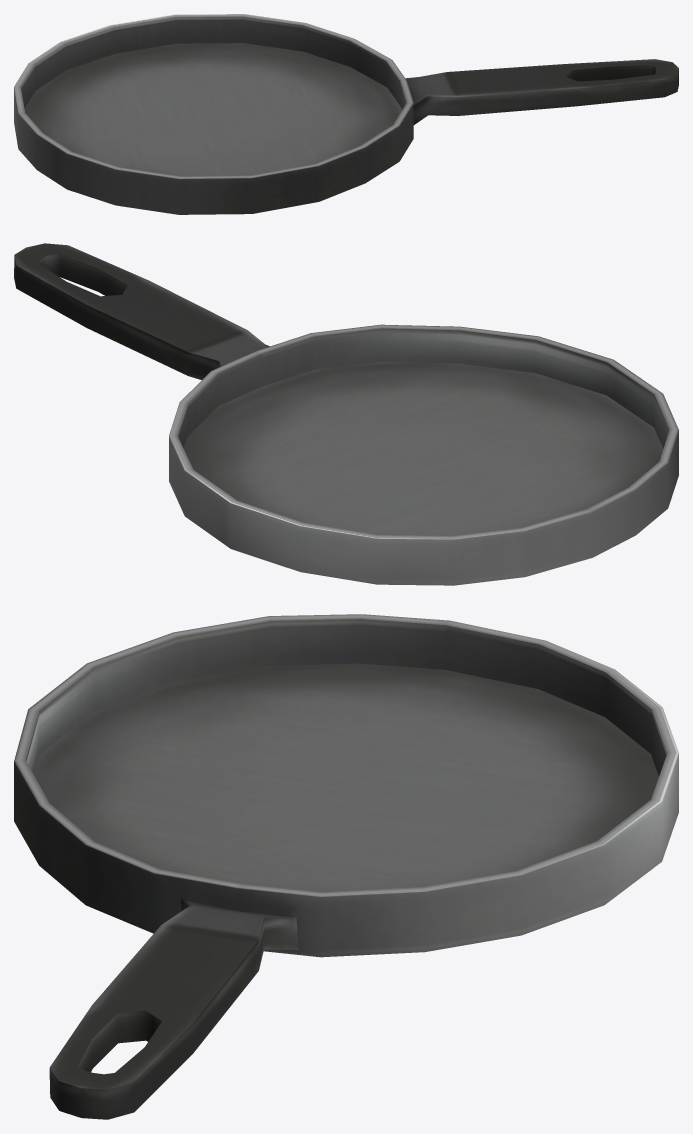
File: ChuCangShi_01_pingdiguo_01.FBX
3 renders of one model, top to bottom at view 1: azimuth 30°, elevation 25°; view 2: azimuth 150°, elevation 25°; view 3: azimuth 270°, elevation 25°, orthographic. The views are drawn at different scales.
Parts seen in each view (by area): view 1: ChuCangShi_01_pingdiguo_01; view 2: ChuCangShi_01_pingdiguo_01; view 3: ChuCangShi_01_pingdiguo_01.
Part boxes in pixels (x1,y1,x2,y2): ChuCangShi_01_pingdiguo_01: [14, 14, 678, 214]; ChuCangShi_01_pingdiguo_01: [14, 243, 678, 585]; ChuCangShi_01_pingdiguo_01: [14, 614, 678, 1119].
Size of the model in its own units: 357 by 22.32 by 218.
